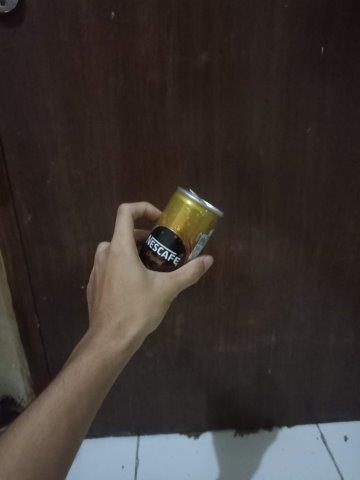kaleng: (136, 185, 224, 272)
